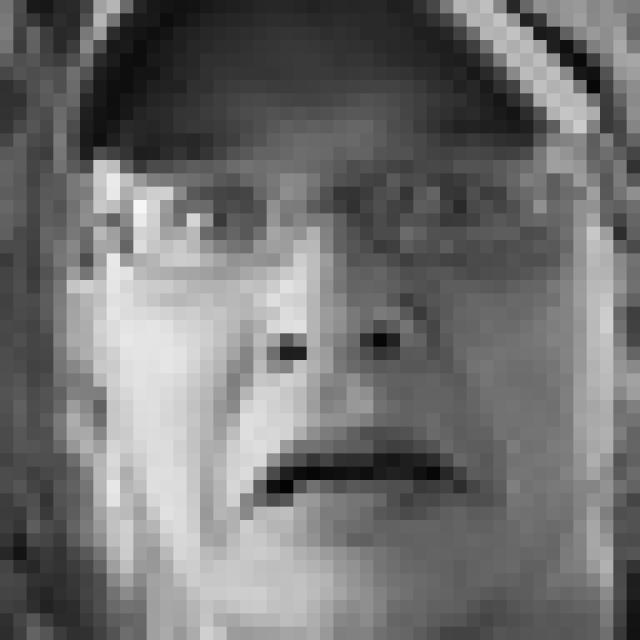fear: (122, 106, 567, 553)
